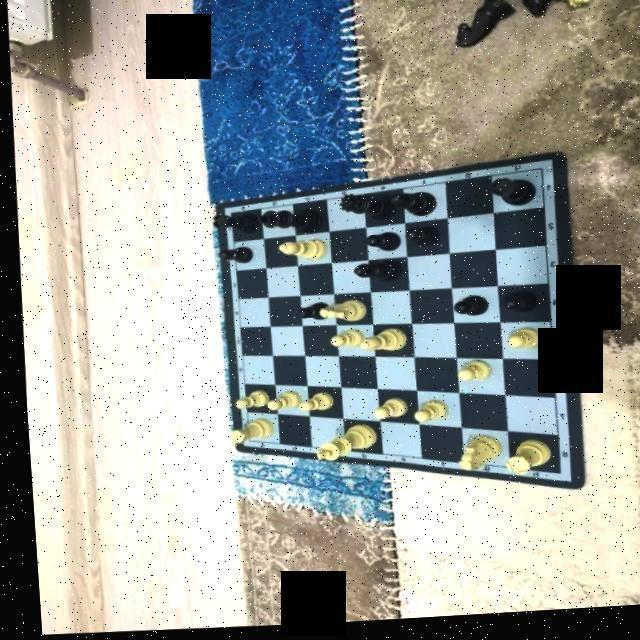chess-table-corners: (234, 437, 248, 449), (530, 170, 544, 181), (546, 475, 558, 484), (223, 210, 232, 220)
